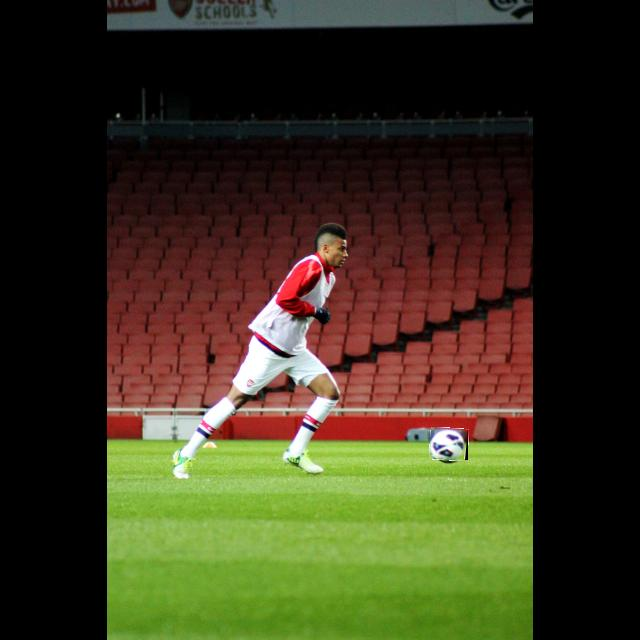Football: (430, 428, 468, 460)
